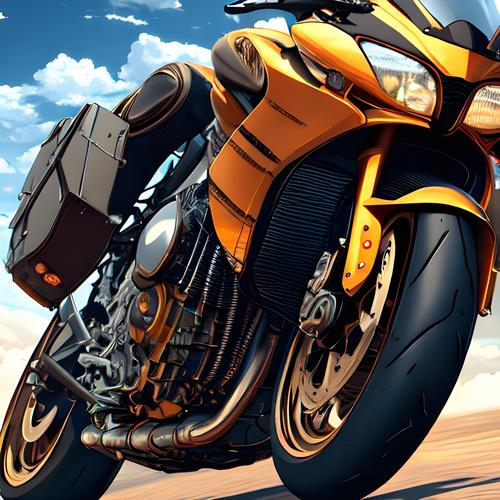摩托车: (3, 1, 500, 499)
